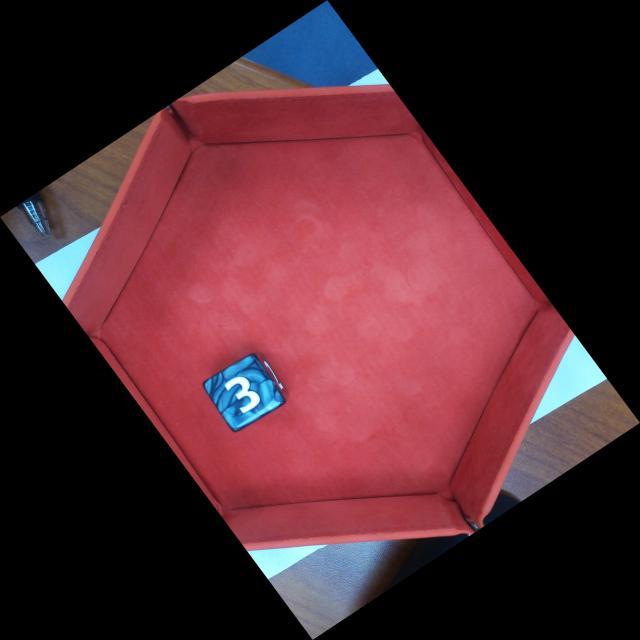dice: (202, 352, 286, 431)
